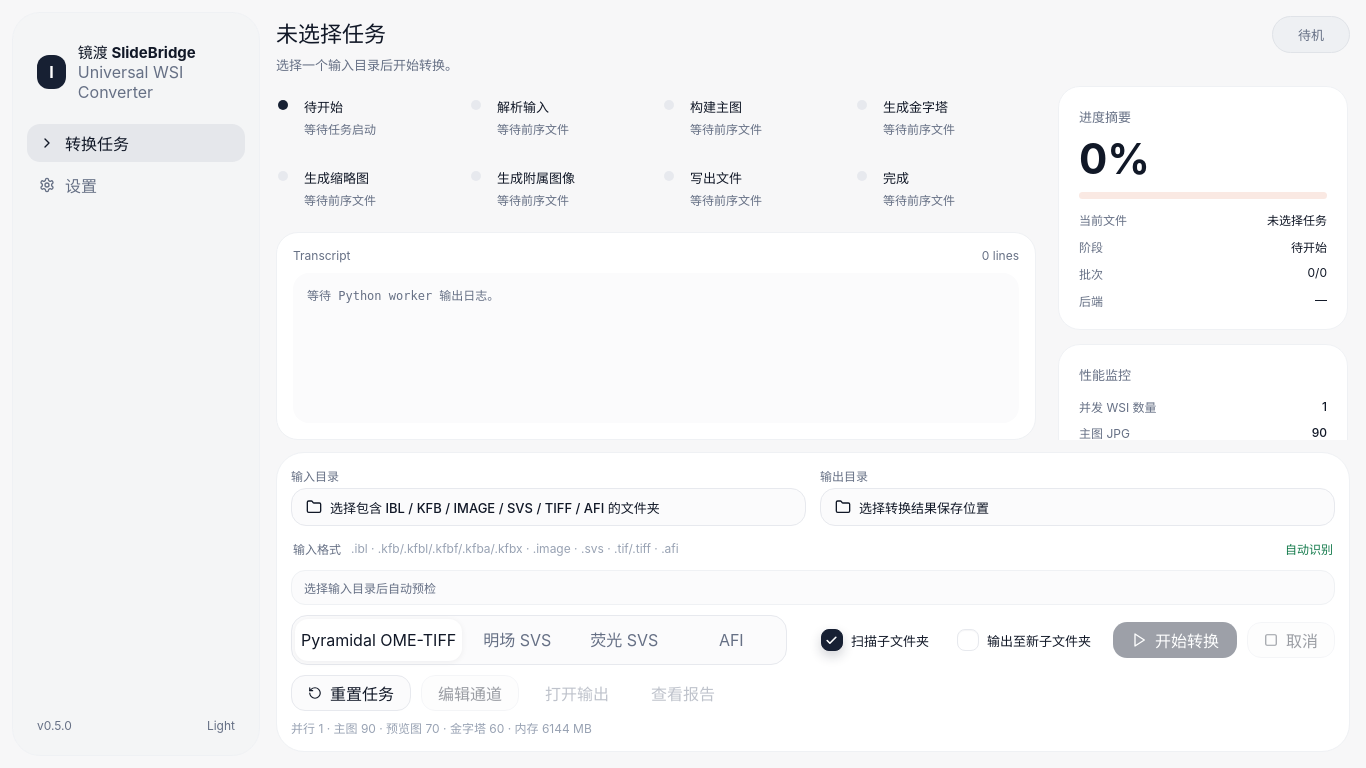
App reset › ends the task banner when inspection startup fails
Click the button "输入目录 选择包含 IBL / KFB / IMAGE / SVS / TIFF / AFI 的文件夹": point(548, 497) [291,467,806,526]
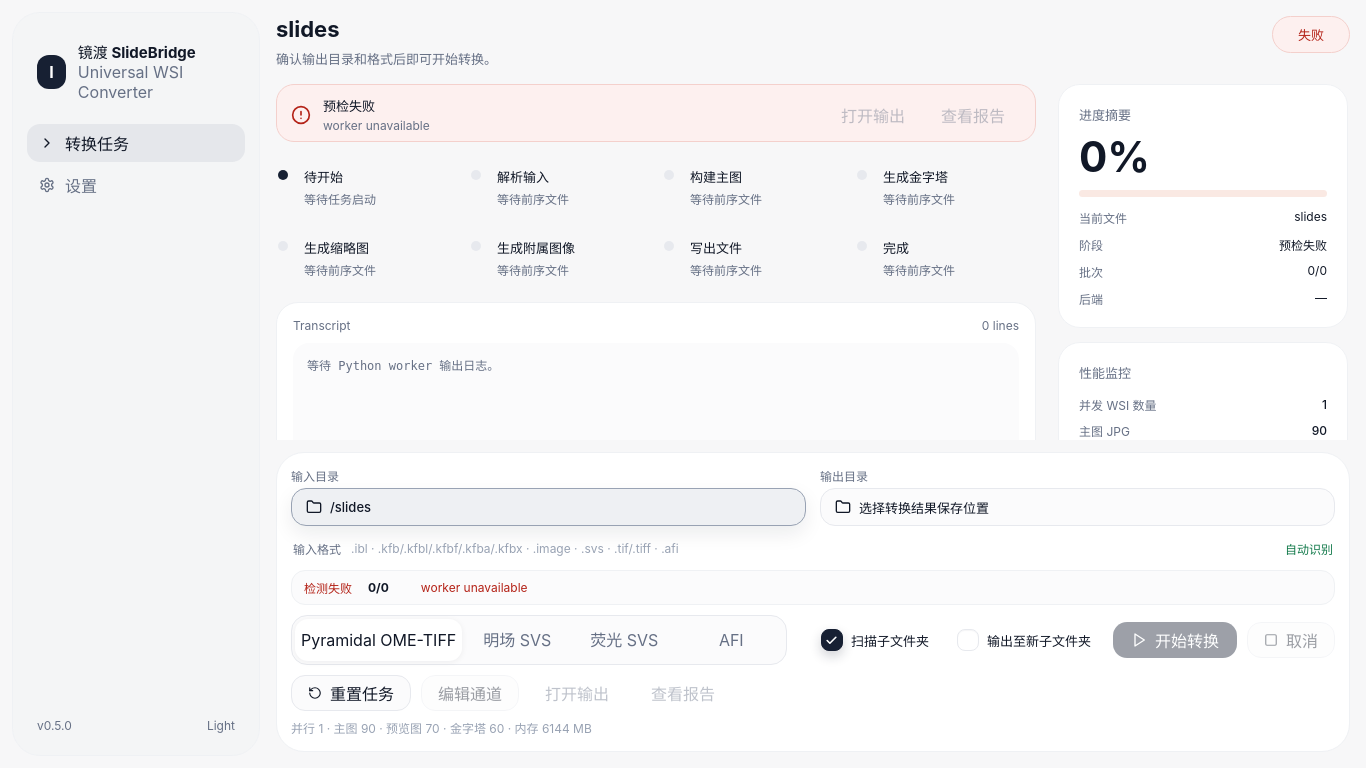
Expected: the 1st text "预检失败" is shown, [323,98,375,114]
Expected: the text "检测失败" is shown, [304,579,352,596]
Expected: the text "worker unavailable" in the row of "进度摘要" is shown, [323,118,430,133]
